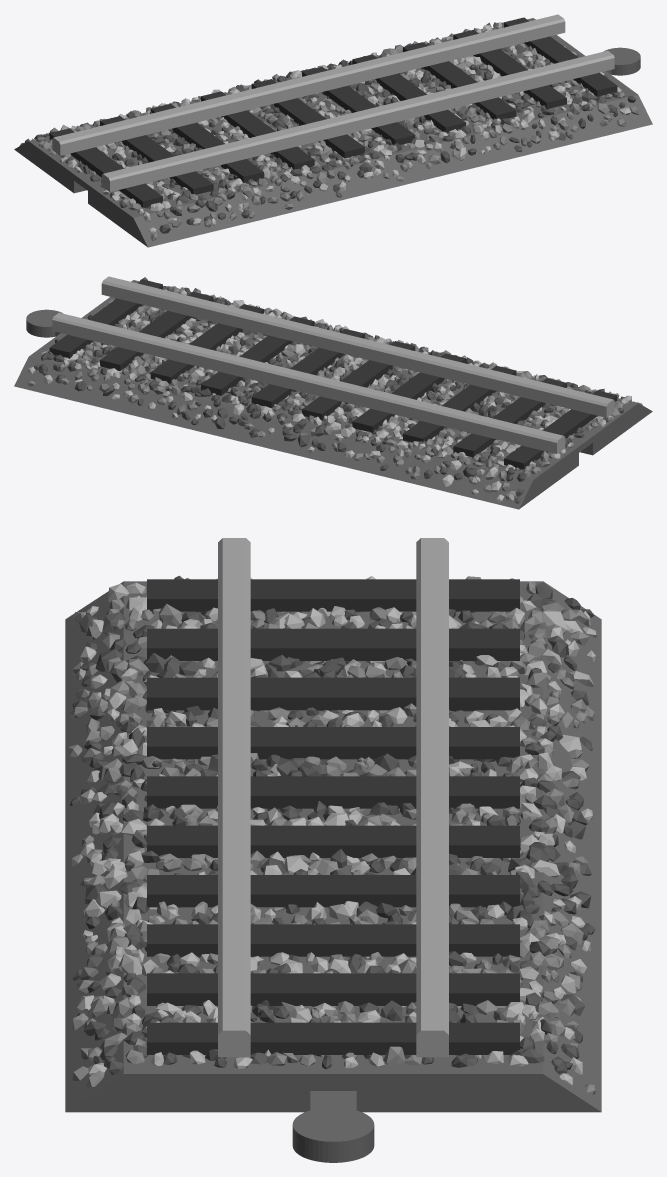
The model's file is Rail_Straight.obj.
3 renders of one model, top to bottom at view 1: azimuth 30°, elevation 25°; view 2: azimuth 150°, elevation 25°; view 3: azimuth 270°, elevation 25°, orthographic. The views are drawn at different scales.
Visible parts, largest first — view 1: Rail_Straight; view 2: Rail_Straight; view 3: Rail_Straight.
Part boxes in pixels (bbox=[...]): Rail_Straight: bbox=[14, 14, 652, 247]; Rail_Straight: bbox=[14, 276, 652, 509]; Rail_Straight: bbox=[65, 538, 601, 1162].
Size of the model in its own units: 1.1 by 0.0798 by 0.46.
1 material, 1 textured.
